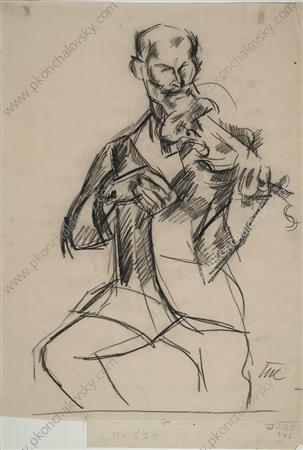person: (37, 24, 281, 415)
